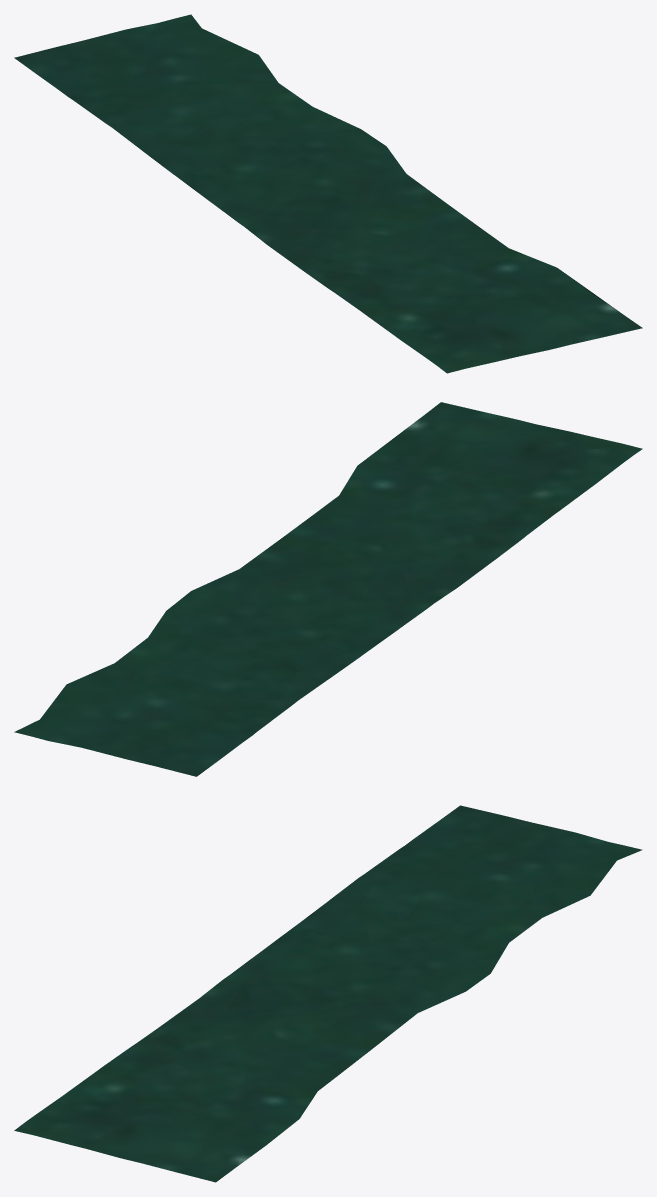
3 renders of one model, top to bottom at view 1: azimuth 30°, elevation 25°; view 2: azimuth 150°, elevation 25°; view 3: azimuth 330°, elevation 25°, orthographic. The views are drawn at different scales.
Bounding box in the file's own units: 13.64 × 0.3337 × 52.22.
1 material, 1 textured.
